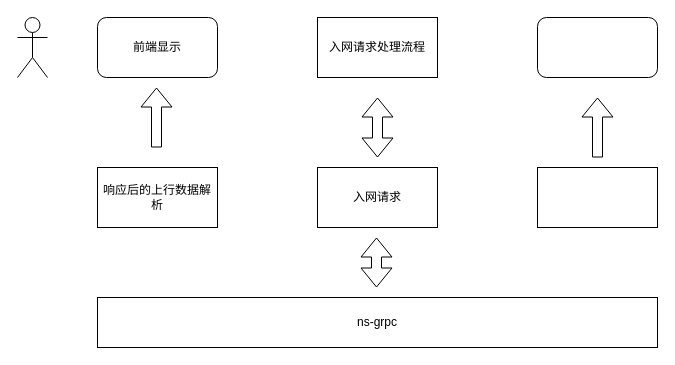
Some shapes in this 675 by 365 pixel diagram are drawn without their labels. The centre of each missing label's shape, as x and y in pixels:
"Actor" belongs at point 32,47.
"同步数据" belongs at point 597,197.
"大数据平台" belongs at point 597,47.
